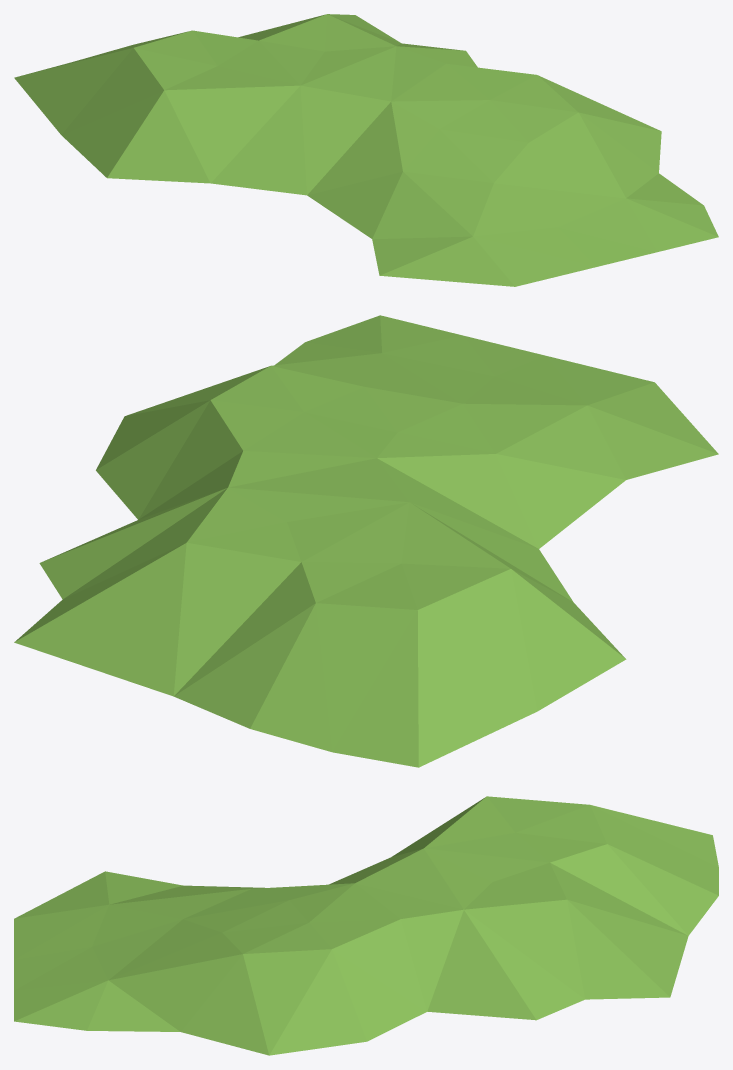
File: MT_Mountain_S_c_05.fbx
3 views of the same model, one above another, from view 1: azimuth 30°, elevation 25°; view 2: azimuth 150°, elevation 25°; view 3: azimuth 270°, elevation 25° (orthographic). The views are drawn at different scales.
Parts seen in each view (by area): view 1: MT_Mountain_S_c_05; view 2: MT_Mountain_S_c_05; view 3: MT_Mountain_S_c_05.
Boxes of the visible parts, x1,y1,x2,y2 form: MT_Mountain_S_c_05: (14,14,718,286); MT_Mountain_S_c_05: (14,315,718,767); MT_Mountain_S_c_05: (14,796,718,1055).
Size of the model in its own units: 1884 by 240 by 2401.
